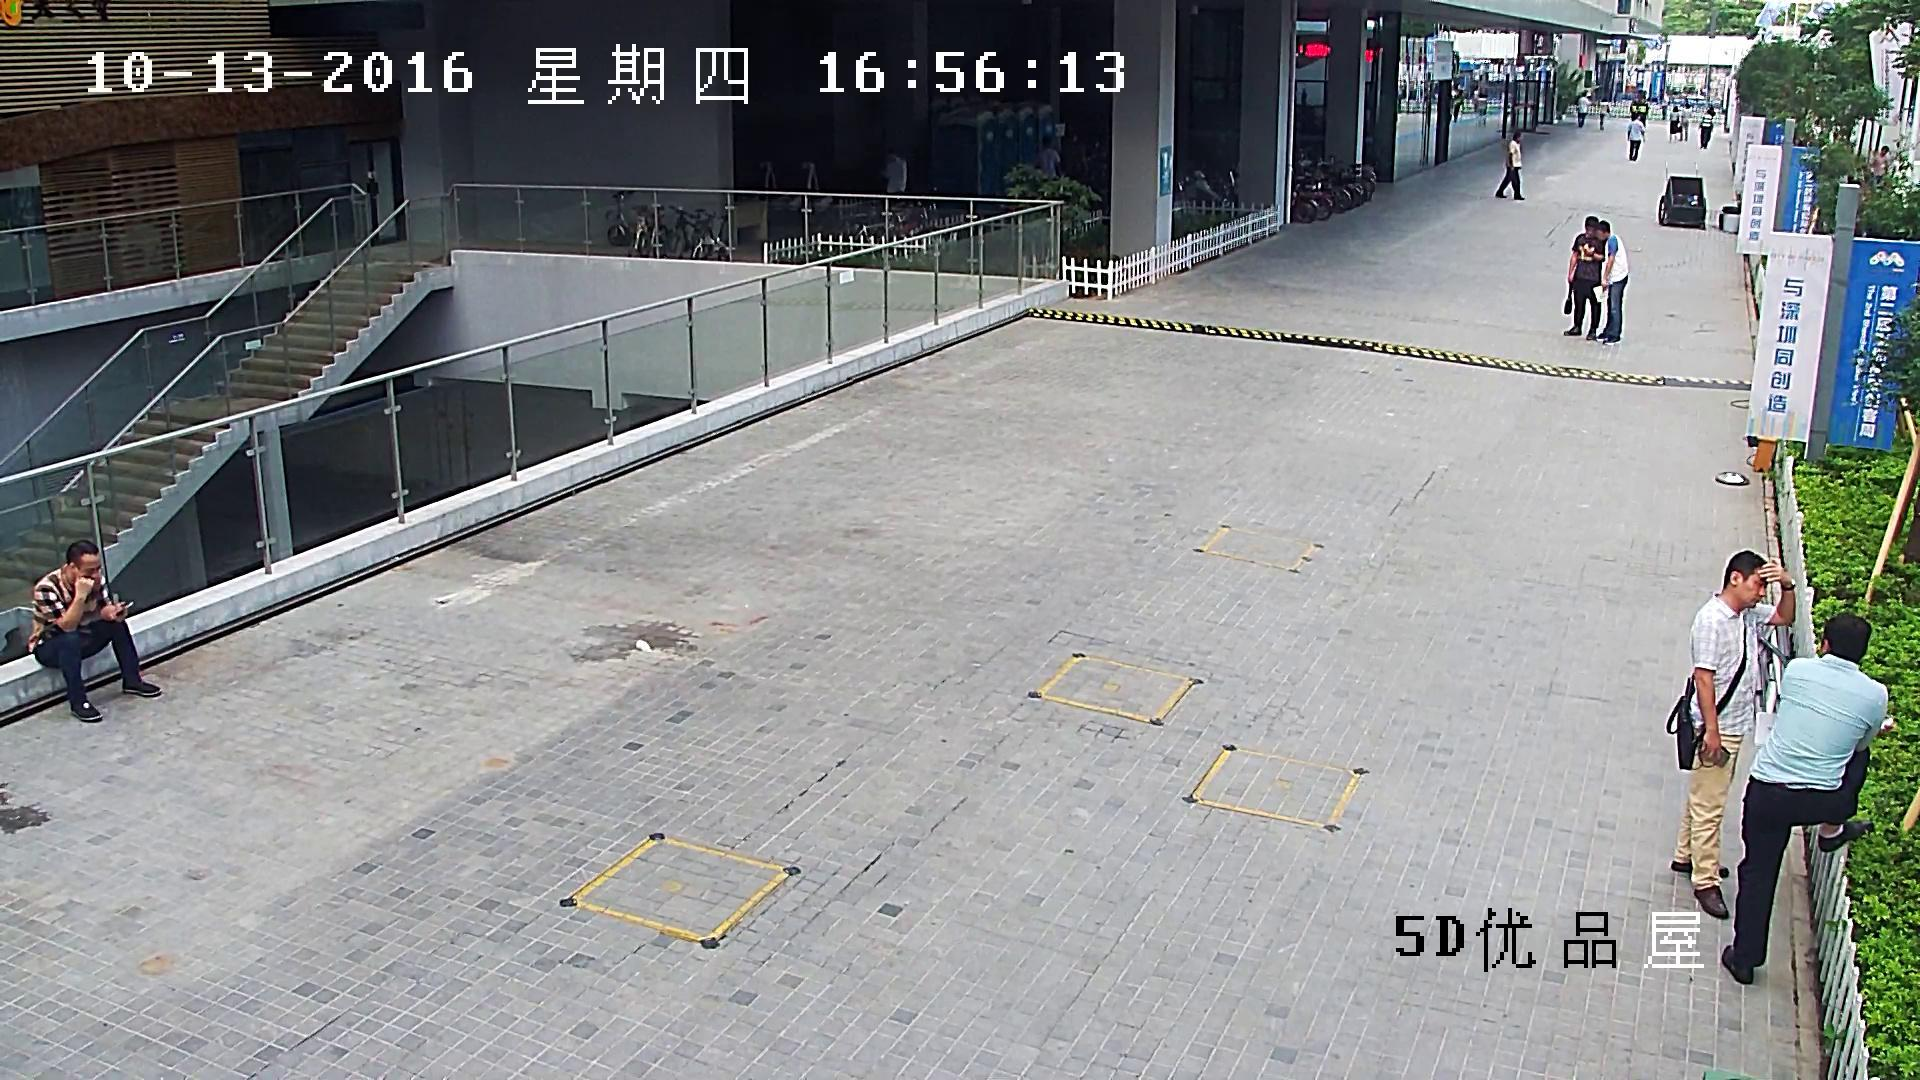person: (1722, 613, 1887, 985), (1666, 550, 1796, 919), (27, 541, 161, 721), (1563, 215, 1605, 339), (1593, 220, 1628, 345), (1495, 132, 1524, 200), (879, 148, 907, 206), (1035, 138, 1060, 183), (1627, 112, 1645, 161), (1872, 145, 1888, 183), (1699, 109, 1712, 149), (1669, 105, 1682, 143), (1577, 92, 1589, 127), (1636, 96, 1648, 127), (1677, 108, 1688, 141), (1630, 98, 1637, 121)
